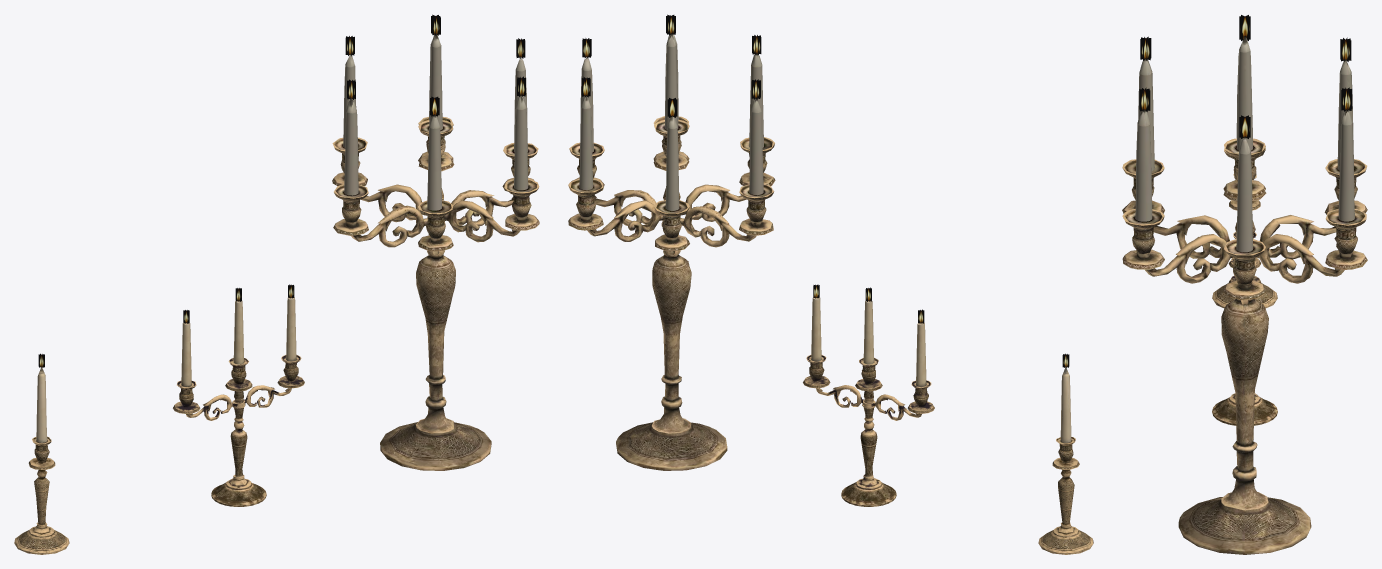
File: brass_candleholders.664a7996.glb
3 renders of one model, left to right at view 1: azimuth 30°, elevation 25°; view 2: azimuth 150°, elevation 25°; view 3: azimuth 270°, elevation 25°, orthographic. The views are drawn at different scales.
Visible parts, largest first — view 1: brass_candleholder_03, brass_candleholder_02, brass_candleholder_01; view 2: brass_candleholder_03, brass_candleholder_02, brass_candleholder_01; view 3: brass_candleholder_03, brass_candleholder_02, brass_candleholder_01.
Boxes of the visible parts, x1=… form: brass_candleholder_03: x1=332, y1=14, x2=539, y2=470; brass_candleholder_02: x1=173, y1=284, x2=304, y2=506; brass_candleholder_01: x1=14, y1=353, x2=69, y2=554; brass_candleholder_03: x1=568, y1=14, x2=775, y2=470; brass_candleholder_02: x1=803, y1=284, x2=934, y2=506; brass_candleholder_01: x1=1038, y1=353, x2=1093, y2=554; brass_candleholder_03: x1=1122, y1=15, x2=1367, y2=554; brass_candleholder_02: x1=1212, y1=232, x2=1277, y2=425; brass_candleholder_01: x1=1212, y1=174, x2=1277, y2=308.
Size of the model in its own units: 0.95 by 0.754 by 0.329.
Materials: 5 (5 with a texture image).
